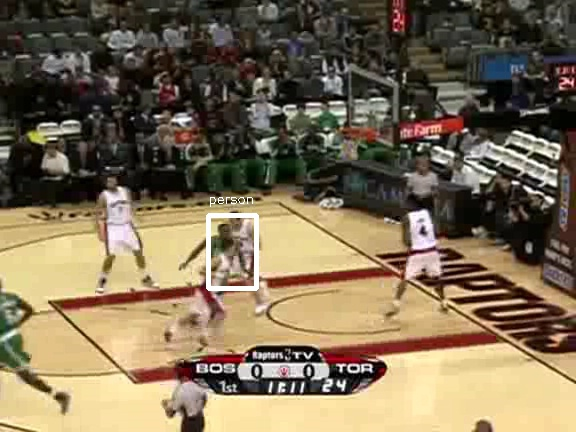person: (204, 225, 238, 306), (203, 225, 237, 306), (205, 225, 239, 306), (204, 224, 238, 305), (204, 226, 238, 307)
target_negative: (359, 23, 496, 240), (419, 9, 429, 338), (87, 208, 120, 295), (349, 72, 376, 150), (503, 78, 542, 104), (86, 248, 91, 342)
